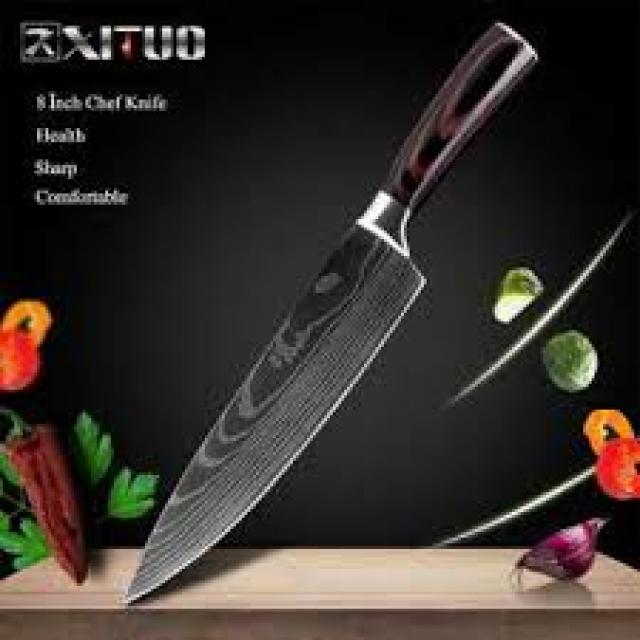Knife: (125, 23, 535, 603)
